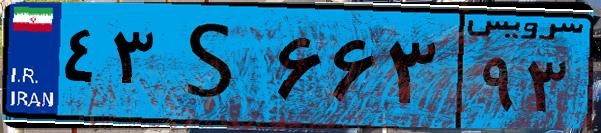3: (385, 28, 445, 110), (525, 38, 570, 115), (110, 28, 158, 98)
4: (57, 26, 110, 100)
6: (270, 28, 330, 110), (330, 28, 385, 110)
9: (475, 38, 525, 113)
S: (158, 12, 270, 120)
